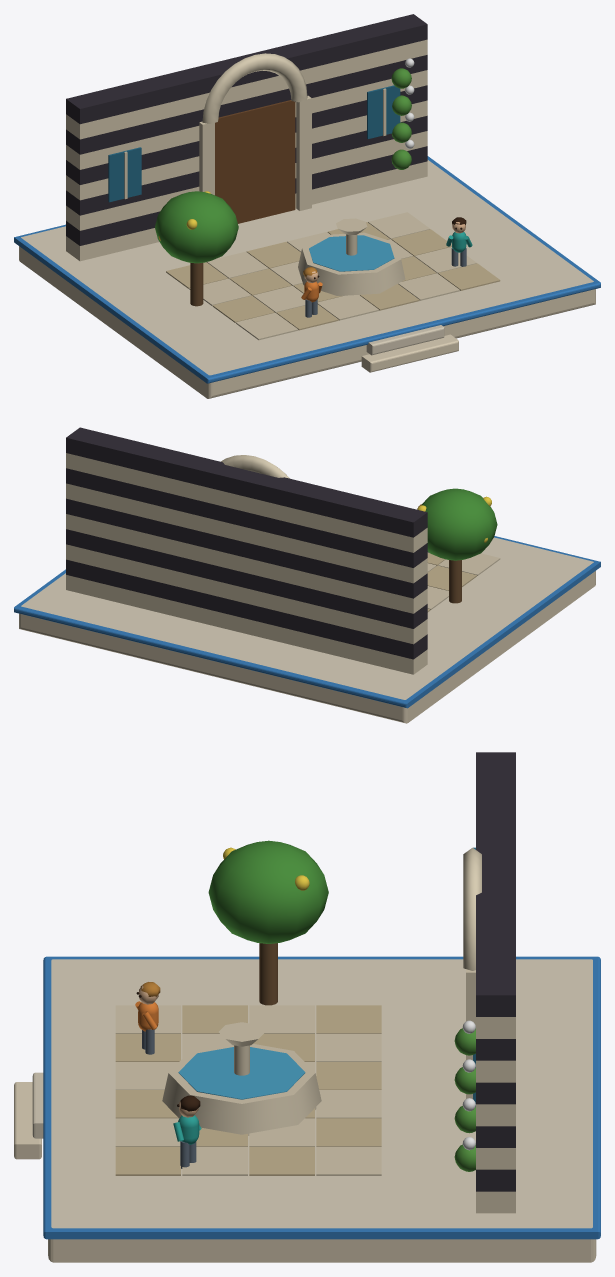
File: damasceneHouse.glb
3 renders of one model, top to bottom at view 1: azimuth 30°, elevation 25°; view 2: azimuth 150°, elevation 25°; view 3: azimuth 270°, elevation 25°, orthographic. The views are drawn at different scales.
Visible parts, largest first — view 1: part_000; view 2: part_000; view 3: part_000.
Boxes of the visible parts, <box> form: part_000: <box>14,14,600,398</box>; part_000: <box>14,427,600,723</box>; part_000: <box>14,752,600,1262</box>.
Size of the model in its own units: 9.74 by 4.5 by 8.78.
